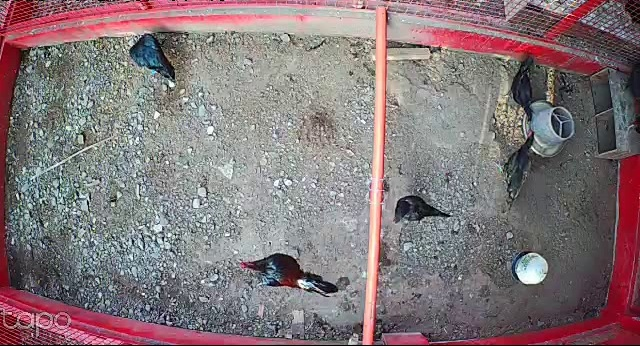Chicken: (494, 126, 535, 212), (127, 32, 177, 81), (502, 54, 536, 125), (391, 194, 452, 228)
Drinker: (510, 248, 550, 286)
Feeder: (523, 96, 575, 159)
Rooster: (236, 253, 341, 301)
